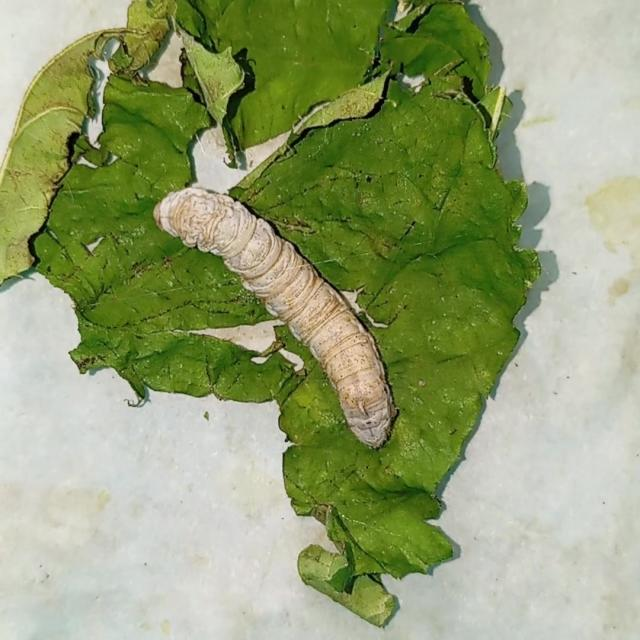Grasserie: (143, 182, 402, 450)
